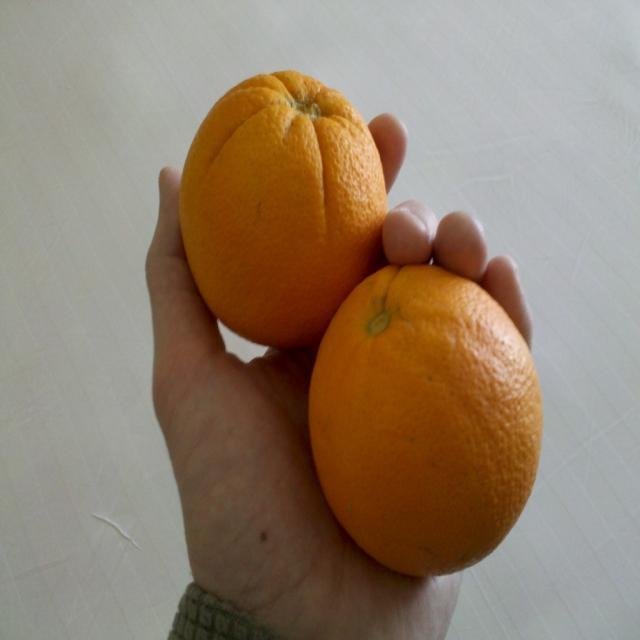Orange: (309, 264, 545, 578), (178, 68, 387, 352)
